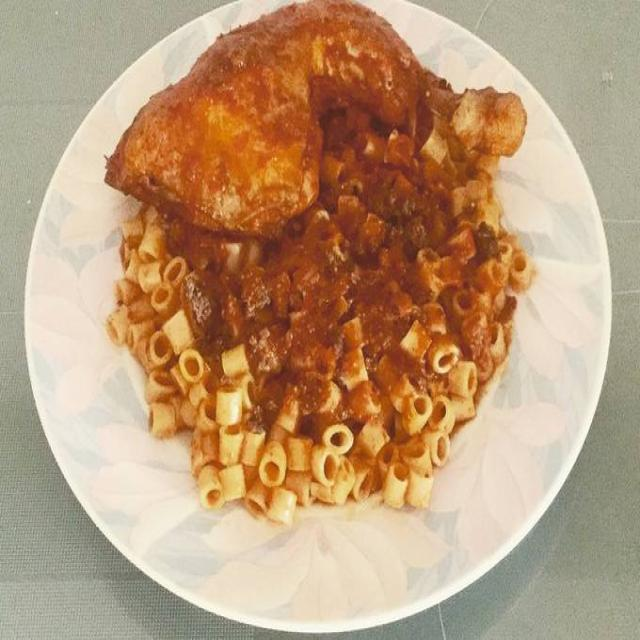Pasta: (101, 17, 526, 510)
